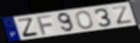3: (94, 8, 113, 28)
9: (57, 12, 75, 33)
F: (36, 14, 54, 36)
O: (75, 10, 95, 30)
Z: (17, 18, 40, 39), (110, 5, 134, 25)
